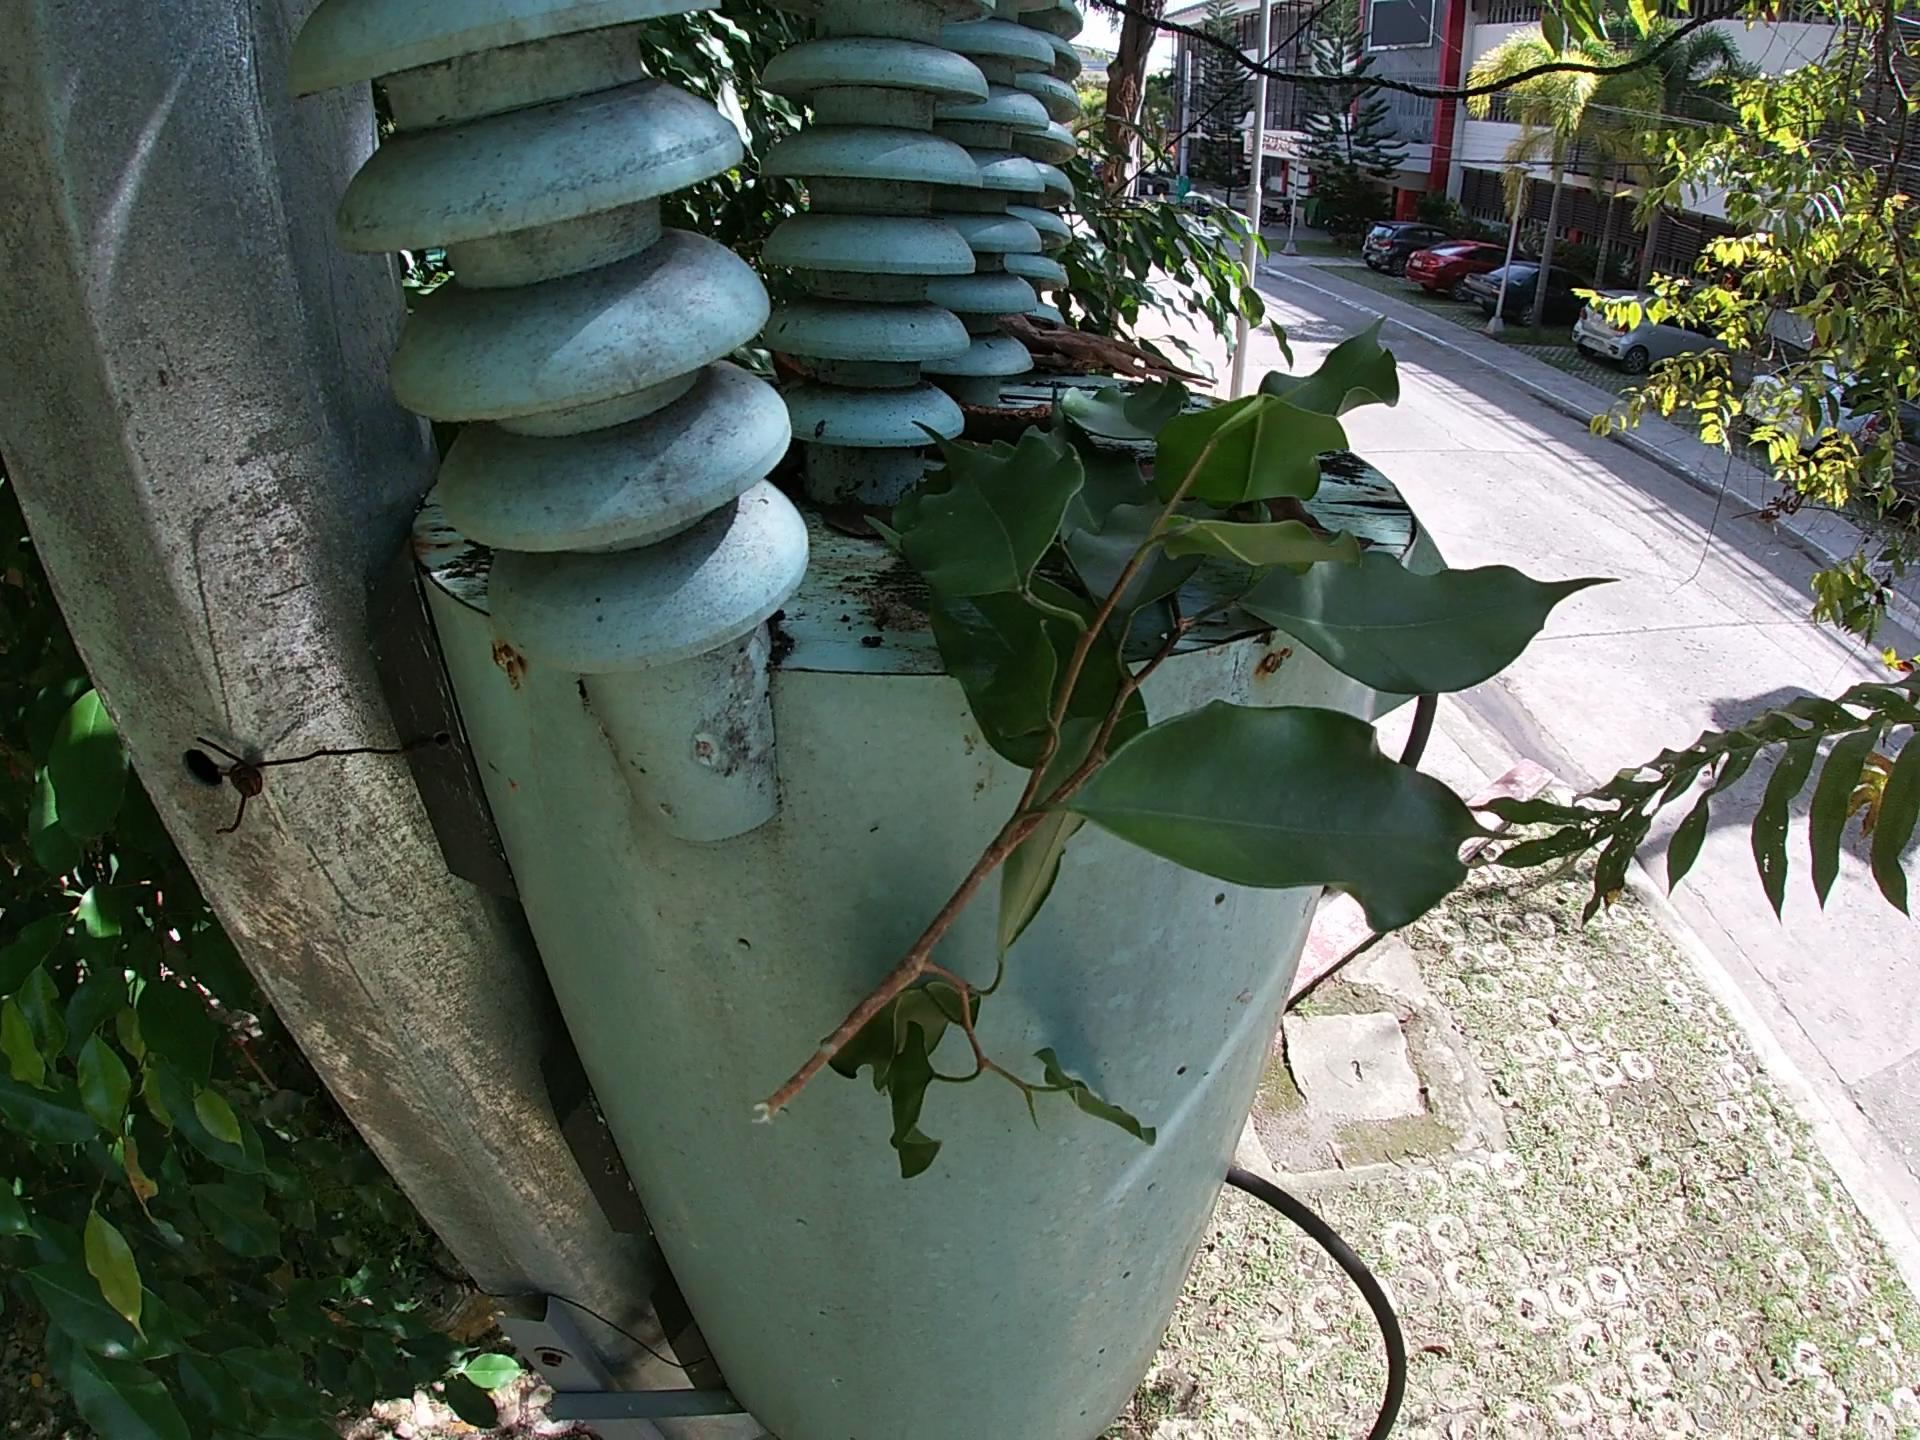branch with leaves: (745, 309, 1624, 1181)
mahogany fruit: (958, 404, 1061, 445)
tree branch: (995, 310, 1231, 399)
